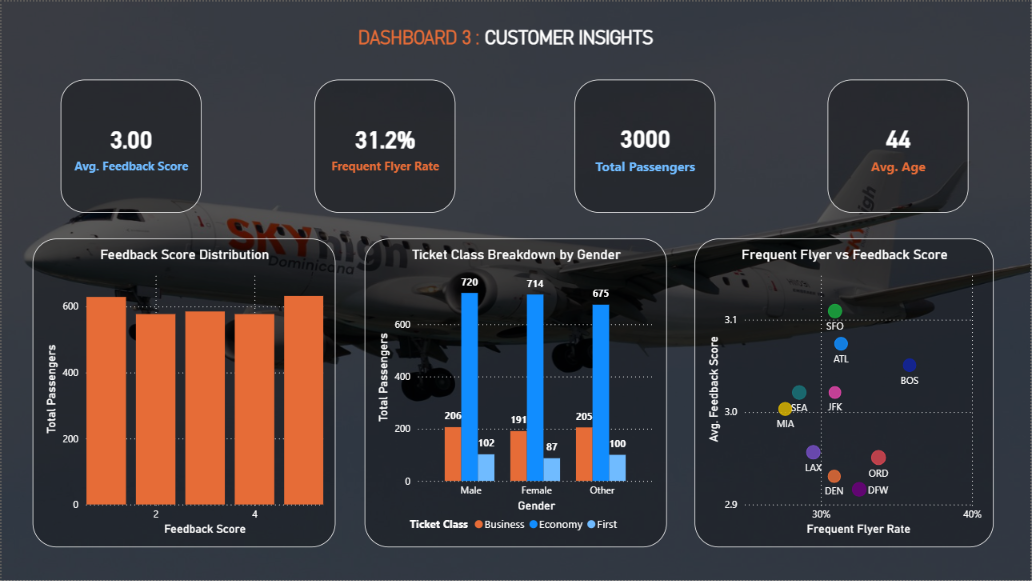

This screenshot's page, from the dashboard's own definition file:
{"tool":"powerbi","page":{"name":"Page 3","canvas":[1280,720],"ordinal":2},"visuals":[{"type":"textbox","box":[347.1,18.7,559.8,49.8],"z":0},{"type":"clusteredColumnChart","title":"Feedback Score Distribution","fields":{"Category":["Airline_Passengers.Feedback Score"],"Y":["Airline_Passengers.Total Passengers"]},"box":[38.6,294.8,376.9,384.4],"z":1000},{"type":"clusteredColumnChart","title":"Ticket Class Breakdown by Gender","fields":{"Category":["Airline_Passengers.Gender"],"Series":["Airline_Passengers.Ticket Class"],"Y":["Airline_Passengers.Total Passengers"]},"box":[451.6,294.8,375.7,384.4],"z":2000},{"type":"scatterChart","title":"Frequent Flyer vs Feedback Score ","fields":{"Category":["Airline_Airports.Airport Code"],"Y":["Airline_Passengers.Avg Feedback Score"],"X":["Airline_Passengers.Frequent Flyer Rate"],"Size":["Airline_Passengers.Total Passengers"]},"box":[862.1,294.8,371.9,384.4],"z":3000},{"type":"card","fields":{"Values":["Airline_Passengers.Avg Feedback Score"]},"box":[73.4,97,175.4,165.4],"z":4000},{"type":"card","fields":{"Values":["Airline_Passengers.Frequent Flyer Rate"]},"box":[389.4,97,175.4,165.4],"z":5000},{"type":"card","fields":{"Values":["Airline_Passengers.Total Passengers"]},"box":[712.8,97,175.4,165.4],"z":6000},{"type":"card","fields":{"Values":["Airline_Passengers.Avg Age"]},"box":[1027.5,97,175.4,165.4],"z":7000}]}

Visuals, with their boxes in screenshot pixels (x1, y1, x2, y2), scaled from the page's 1280x720 canvas onto the 1032x581 screenshot:
textbox: 280 15 731 55
"Feedback Score Distribution" clusteredColumnChart: 31 238 335 548
"Ticket Class Breakdown by Gender" clusteredColumnChart: 364 238 667 548
"Frequent Flyer vs Feedback Score " scatterChart: 695 238 995 548
card - Airline_Passengers.Avg Feedback Score: 59 78 201 212
card - Airline_Passengers.Frequent Flyer Rate: 314 78 455 212
card - Airline_Passengers.Total Passengers: 575 78 716 212
card - Airline_Passengers.Avg Age: 828 78 970 212
